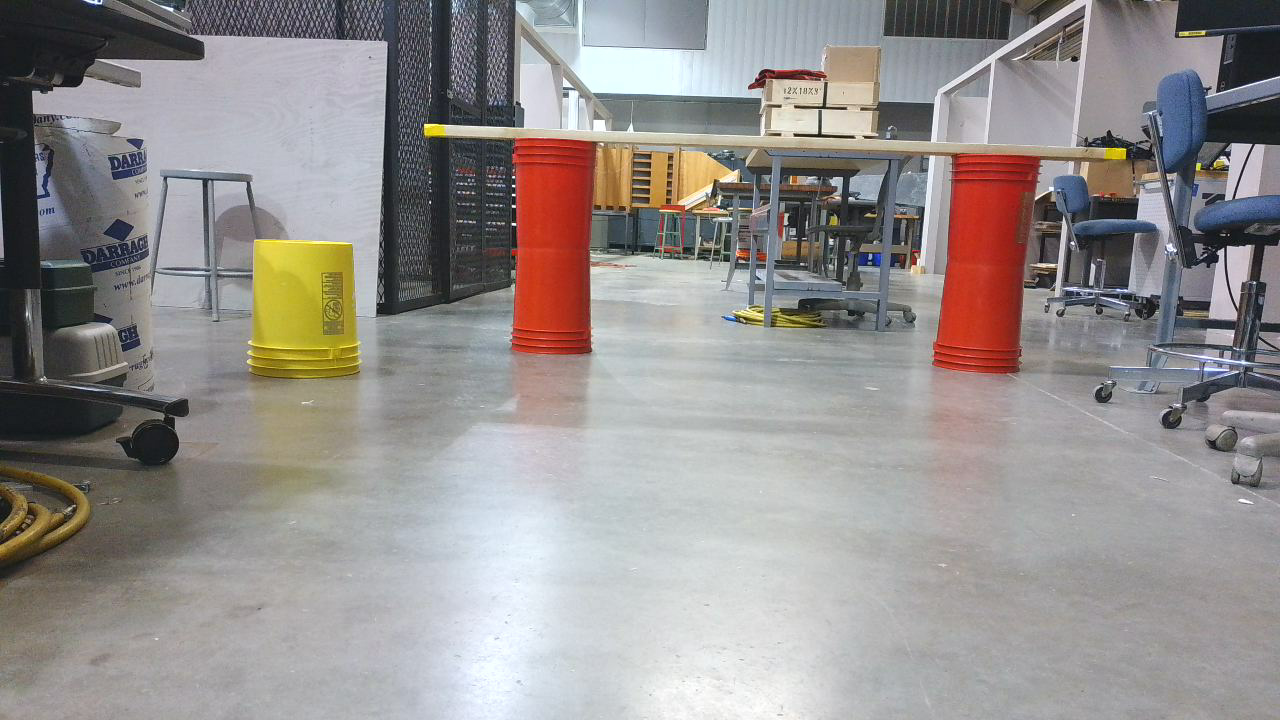red_bucket_arch: (422, 125, 1136, 374)
yellow_bucket: (253, 239, 371, 386)
